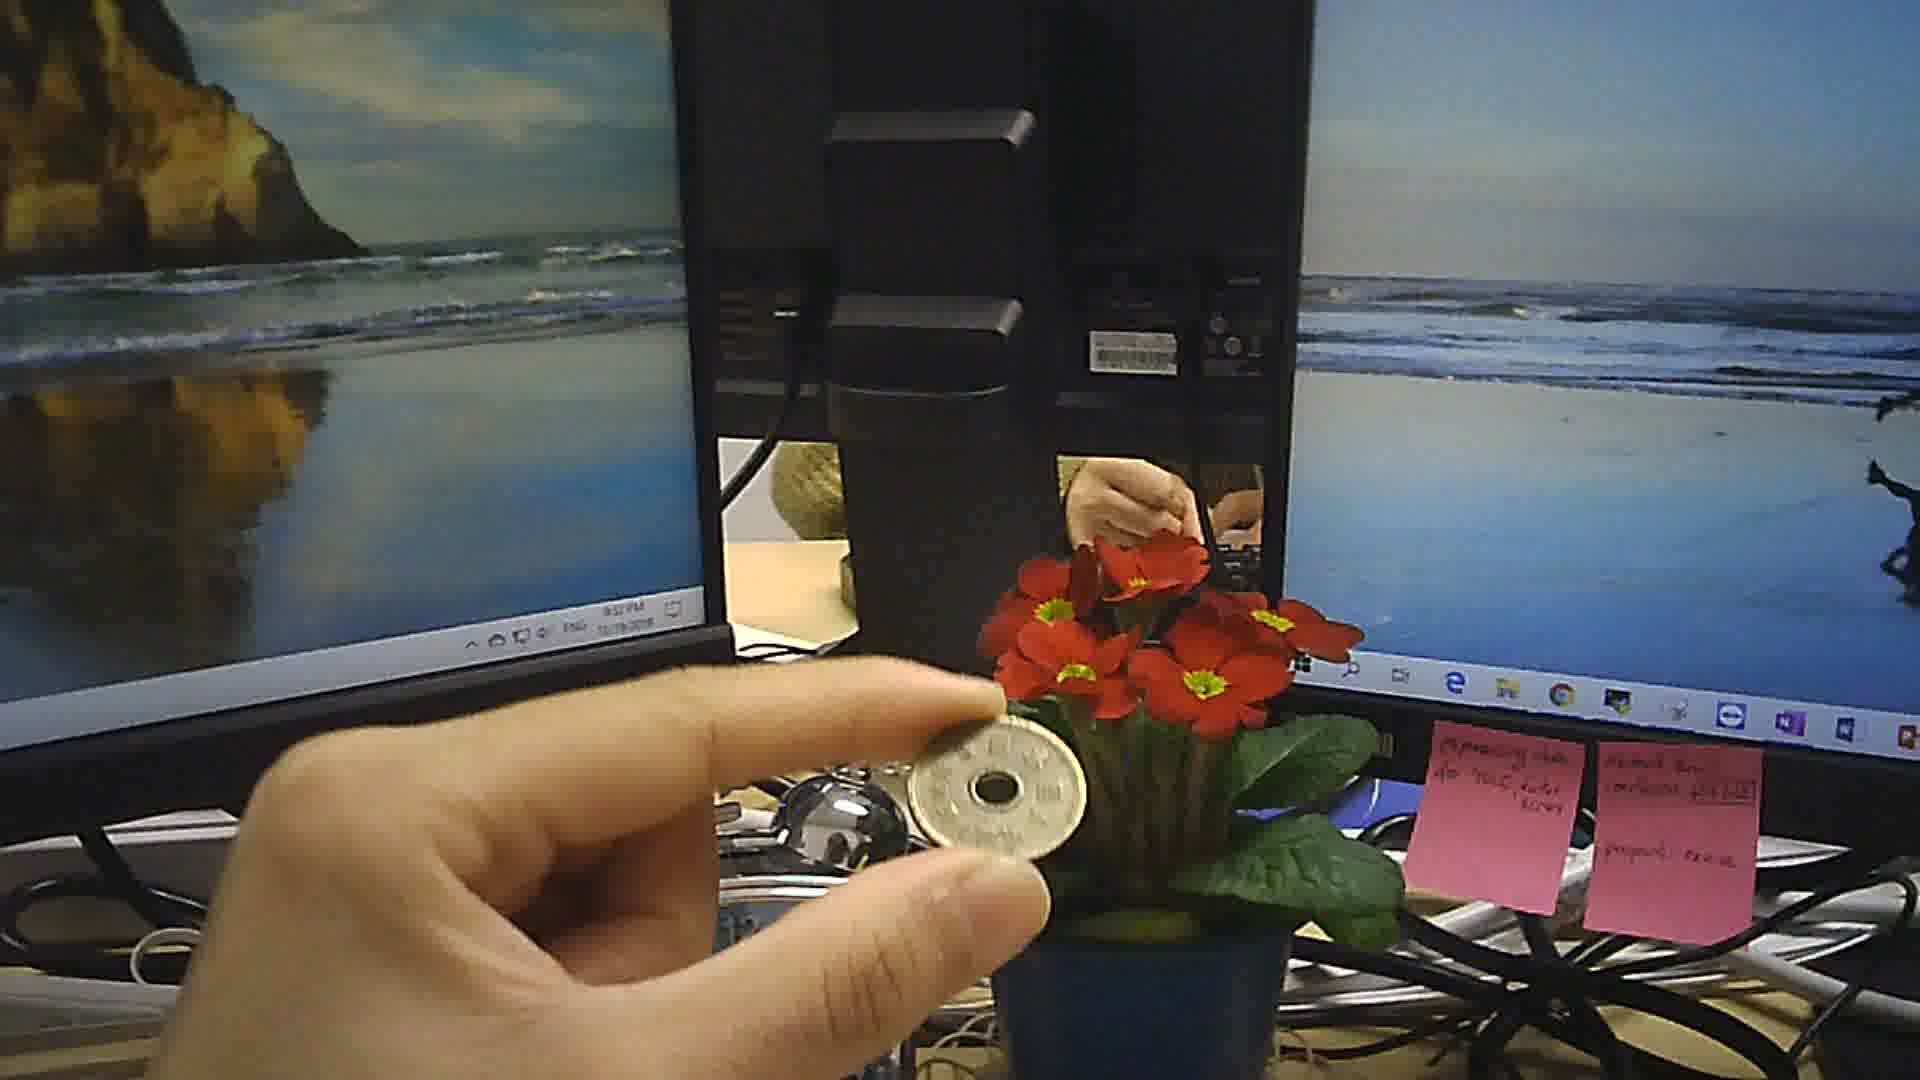5 Yen: (905, 712, 1093, 862)
